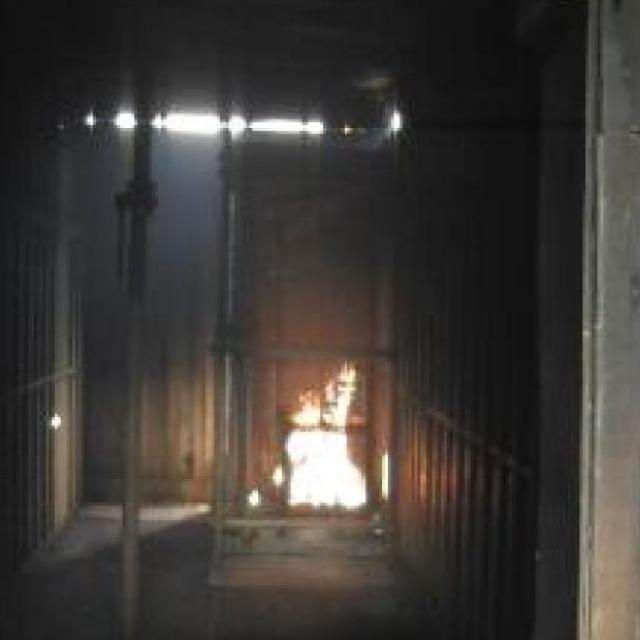smoke: (288, 362, 370, 507)
